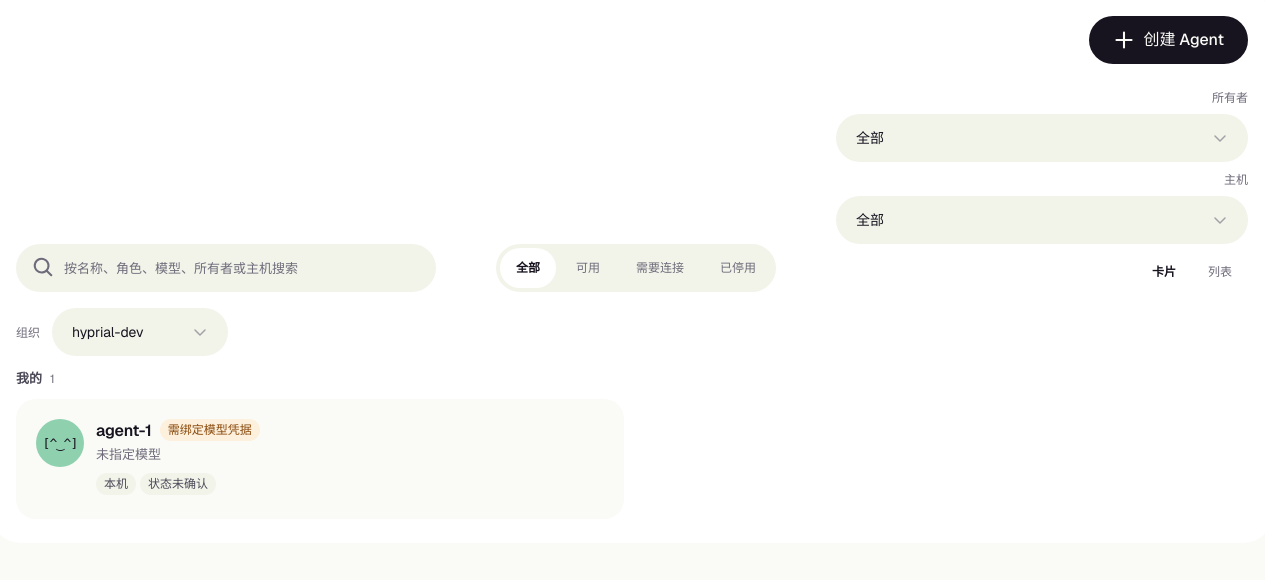
shows confirmed current organization members even when another organization read failed
Expected: the button with test id "contact-agent-1" is shown, x1=16 y1=399 x2=624 y2=519
Click the dropdown named "组织".
click(140, 332)  # box x1=52 y1=308 x2=228 y2=356
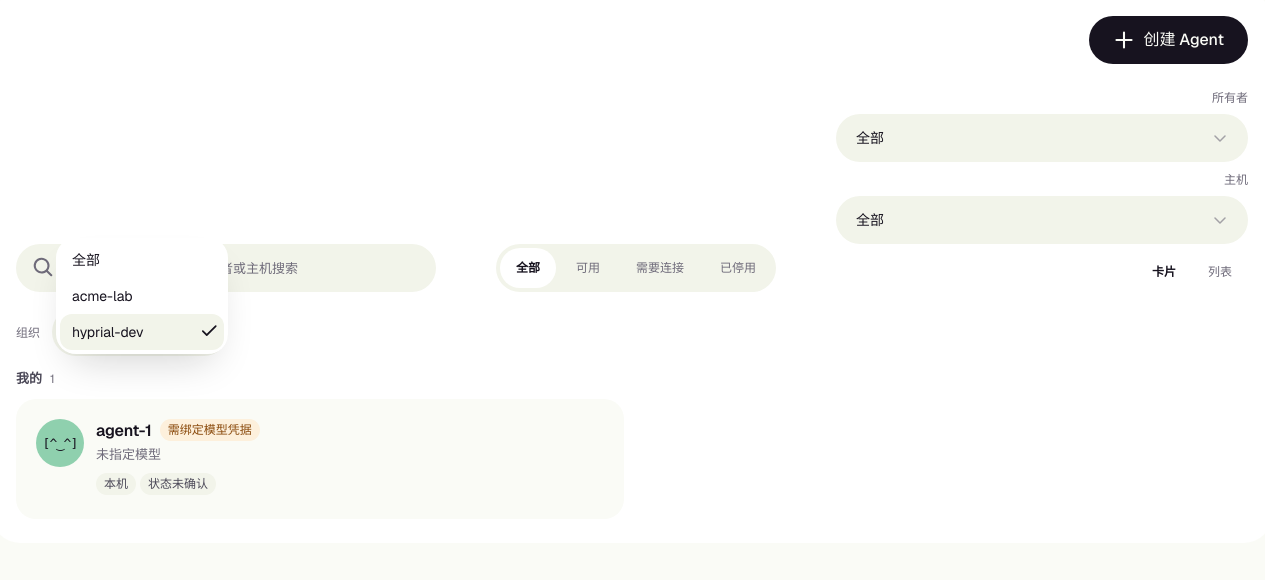
Click the option "全部".
click(86, 260)  # box x1=72 y1=251 x2=100 y2=269
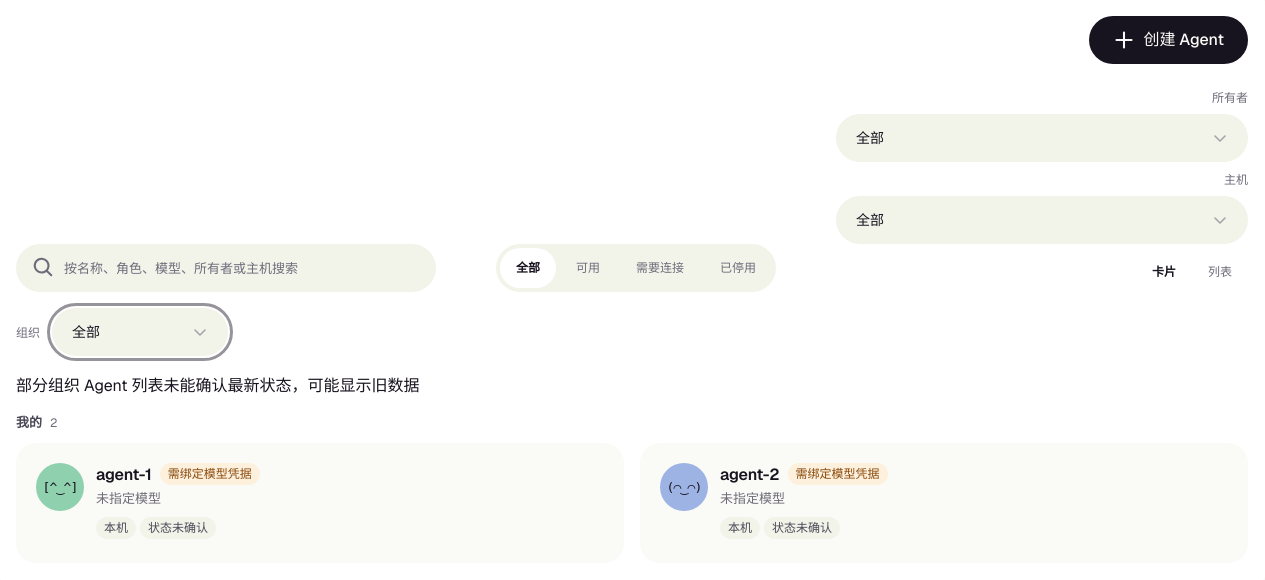
Now the button with test id "contact-agent-2" is shown, box x1=640 y1=443 x2=1248 y2=563
Now the text "部分组织 Agent 列表未能确认最新状态，可能显示旧数据" is shown, box x1=16 y1=375 x2=420 y2=396
